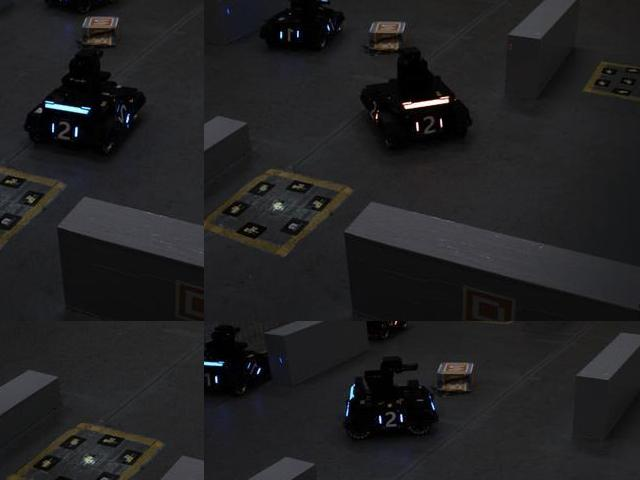armor: (410, 114, 448, 140), (45, 117, 81, 144), (372, 409, 406, 431), (275, 24, 304, 47), (115, 97, 134, 132), (243, 359, 267, 381), (364, 95, 381, 126), (204, 368, 221, 389), (383, 321, 405, 331), (47, 0, 73, 8)
